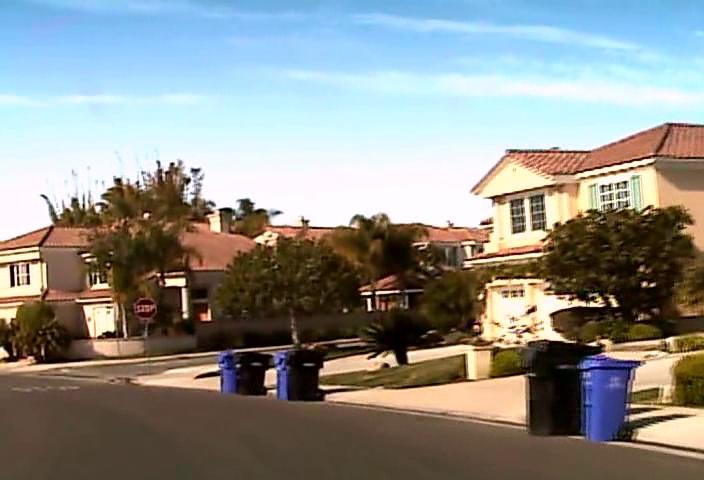stop: (133, 296, 157, 320)
